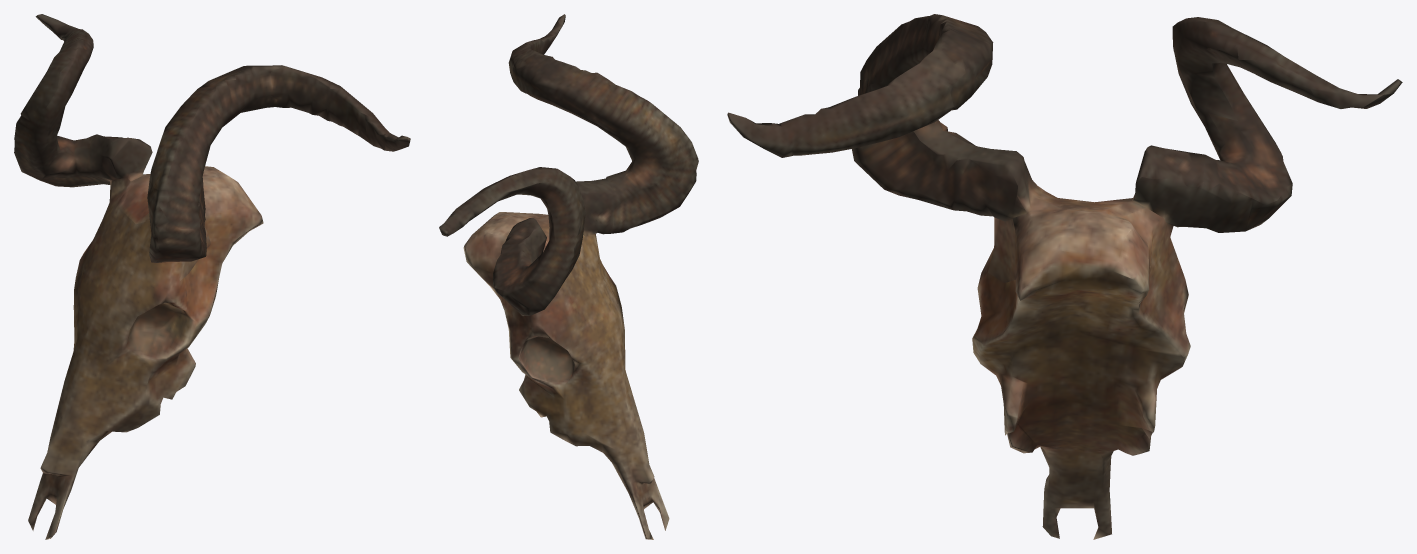
Rendered from SM_HornSkull.fbx.
3 renders of one model, left to right at view 1: azimuth 30°, elevation 25°; view 2: azimuth 150°, elevation 25°; view 3: azimuth 270°, elevation 25°, orthographic. The views are drawn at different scales.
Visible parts, largest first — view 1: SM_HornSkull_LOD0; view 2: SM_HornSkull_LOD0; view 3: SM_HornSkull_LOD0.
Part boxes in pixels (box(x1,y1,x2,y2)): SM_HornSkull_LOD0: box(14, 14, 410, 539); SM_HornSkull_LOD0: box(439, 14, 698, 539); SM_HornSkull_LOD0: box(727, 14, 1402, 539).
Size of the model in its own units: 43.88 by 77.82 by 78.59.
1 material, 1 textured.
